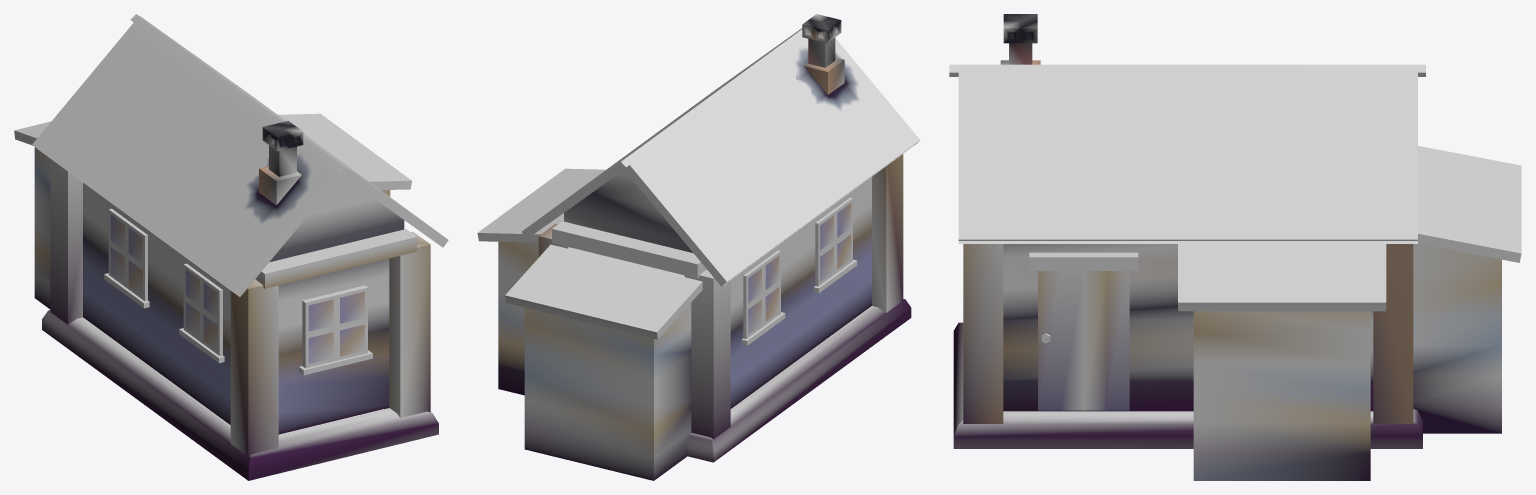
Rendered from House2V3.fbx.
3 renders of one model, left to right at view 1: azimuth 30°, elevation 25°; view 2: azimuth 150°, elevation 25°; view 3: azimuth 270°, elevation 25°, orthographic. The views are drawn at different scales.
Parts seen in each view (by area): view 1: House2; view 2: House2; view 3: House2.
Boxes of the visible parts, x1,y1,x2,y2 form: House2: (14,14,448,480); House2: (477,14,920,480); House2: (949,14,1521,480).
Size of the model in its own units: 361 by 395 by 573.
